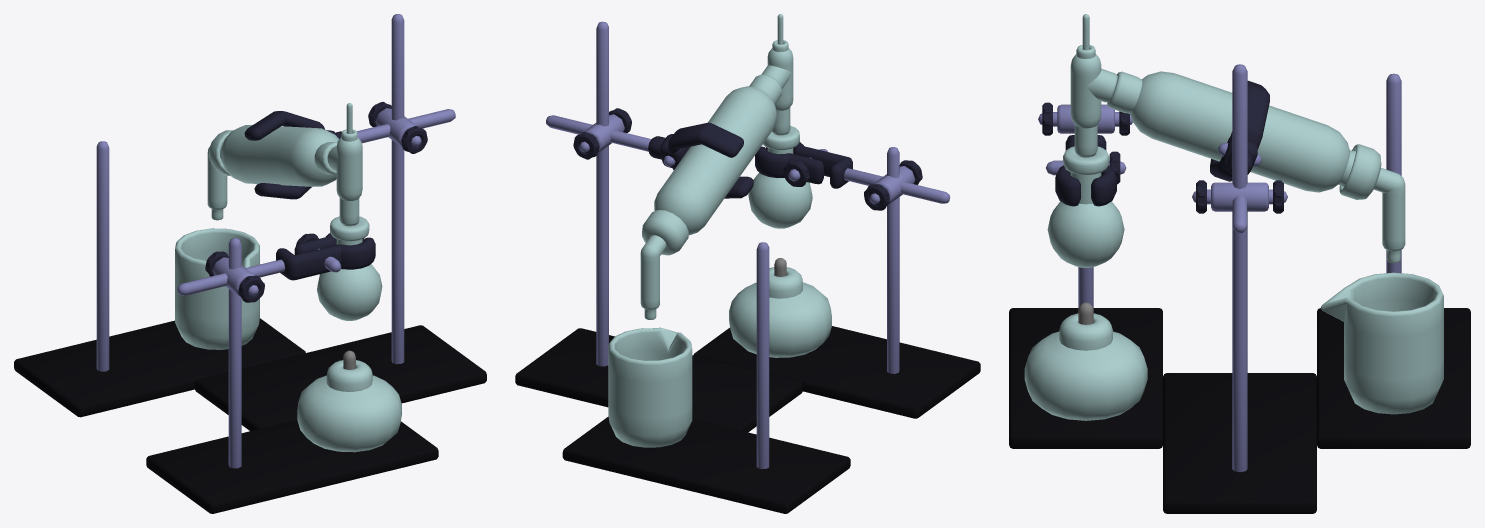
Rendered from LastLuna_Model_Station_Distiller.fbx.
The picture shows the model from 3 angles, left to right: view 1: azimuth 30°, elevation 25°; view 2: azimuth 150°, elevation 25°; view 3: azimuth 270°, elevation 25°; orthographic projection. The views are drawn at different scales.
Parts seen in each view (by area): view 1: Stand_Base001, Stand_Base002, Stand_Base003, Alcohol_Lamp001, Beaker001, Condenser001, Stand_Pole_Tall001, Flask_Round001, Stand_Pole002, Stand_Pole001, Distill_Collector001, Stand_Arm_Clamp_Base001 (+9 smaller); view 2: Stand_Base002, Stand_Base001, Stand_Base003, Beaker001, Condenser001, Alcohol_Lamp001, Stand_Pole_Tall001, Flask_Round001, Stand_Pole002, Distill_Receiver001, Stand_Pole001, Distill_Collector001 (+10 smaller); view 3: Stand_Base003, Condenser001, Beaker001, Stand_Base001, Stand_Base002, Alcohol_Lamp001, Stand_Pole_Tall001, Flask_Round001, Distill_Collector001, Distill_Receiver001, Stand_Pole002, Stand_Fixture002 (+9 smaller).
Part boxes in pixels (x1,y1,x2,y2): Stand_Base001: (146,420,438,513); Stand_Base002: (14,318,305,417); Stand_Base003: (194,325,486,430); Alcohol_Lamp001: (297,360,401,452); Beaker001: (175,228,259,349); Condenser001: (220,125,339,186); Stand_Pole_Tall001: (391,14,404,364); Flask_Round001: (317,216,382,320); Stand_Pole002: (96,141,109,371); Stand_Pole001: (228,238,241,468); Distill_Collector001: (327,103,362,226); Stand_Arm_Clamp_Base001: (276,237,375,280); Stand_Base002: (562,416,850,513); Stand_Base001: (693,326,980,418); Stand_Base003: (515,328,802,432); Beaker001: (608,327,692,447); Condenser001: (654,74,781,235); Alcohol_Lamp001: (729,267,831,357); Stand_Pole_Tall001: (596,21,608,366); Flask_Round001: (748,126,812,228); Stand_Pole002: (756,242,769,468); Distill_Receiver001: (640,210,688,319); Stand_Pole001: (887,147,899,373); Distill_Collector001: (761,14,793,135); Stand_Base003: (1163,373,1316,513); Condenser001: (1107,71,1355,192); Beaker001: (1321,272,1443,414); Stand_Base001: (1009,308,1162,448); Stand_Base002: (1317,308,1470,448); Alcohol_Lamp001: (1024,313,1147,420); Stand_Pole_Tall001: (1232,64,1247,472); Flask_Round001: (1047,146,1124,267); Distill_Collector001: (1070,14,1117,157); Distill_Receiver001: (1339,144,1405,263); Stand_Pole002: (1386,73,1401,273); Stand_Fixture002: (1192,182,1287,211).
Bounding box in the file's own units: 118 × 118 × 118.
